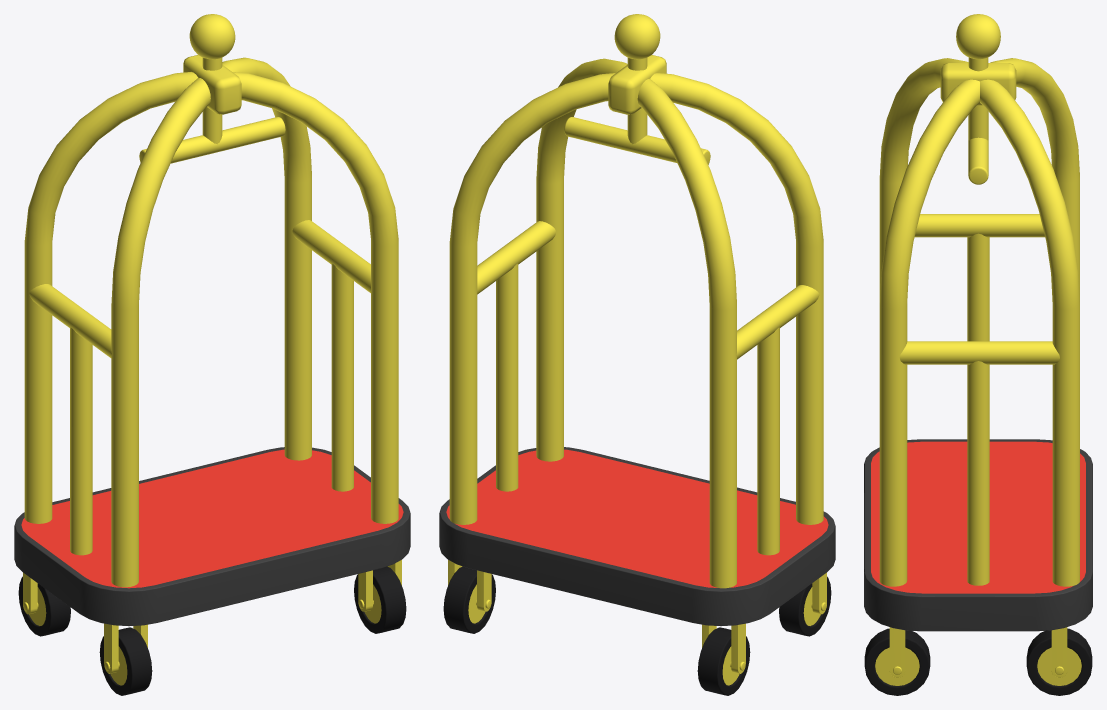
Rendered from Public_7_Luggage_Trolley_1.glb.
3 views of the same model, side by side, from view 1: azimuth 30°, elevation 25°; view 2: azimuth 150°, elevation 25°; view 3: azimuth 270°, elevation 25° (orthographic).
Parts seen in each view (by area): view 1: Public_7_Luggage_Trolley_1; view 2: Public_7_Luggage_Trolley_1; view 3: Public_7_Luggage_Trolley_1.
Boxes of the visible parts, bbox=[...] form: Public_7_Luggage_Trolley_1: bbox=[14, 14, 410, 695]; Public_7_Luggage_Trolley_1: bbox=[439, 14, 835, 695]; Public_7_Luggage_Trolley_1: bbox=[864, 14, 1092, 695].
Bounding box in the file's own units: 1.97 × 3.58 × 1.21.
1 material, 1 textured.
